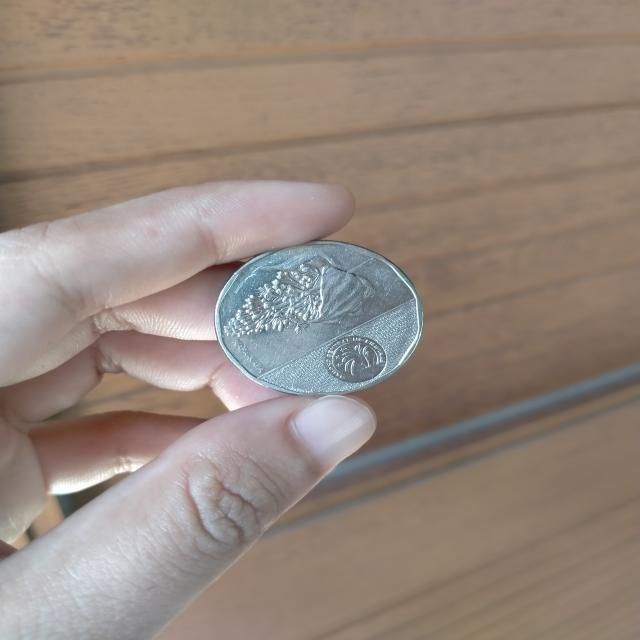10_New_Back: (223, 249, 387, 336)
